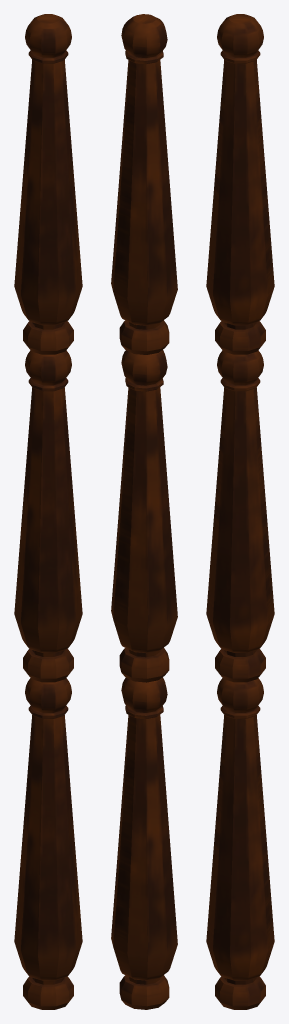
The model's file is SM_Stick_01.fbx.
3 views of the same model, side by side, from view 1: azimuth 90°, elevation 25°; view 2: azimuth 150°, elevation 25°; view 3: azimuth 270°, elevation 25° (orthographic).
Parts seen in each view (by area): view 1: SM_Stick_01; view 2: SM_Stick_01; view 3: SM_Stick_01.
Part boxes in pixels (x1,y1,x2,y2): SM_Stick_01: [14, 14, 82, 1009]; SM_Stick_01: [111, 14, 177, 1009]; SM_Stick_01: [206, 14, 274, 1009].
Bounding box in the file's own units: 19.14 × 319 × 20.12.
